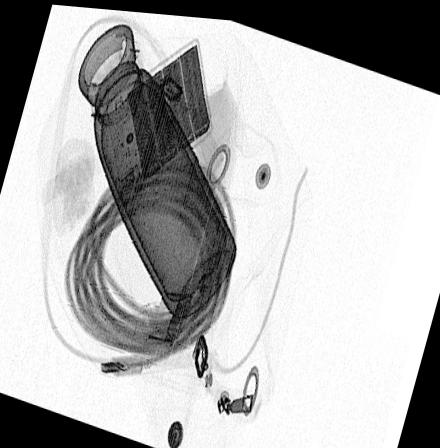Powerbank: (124, 33, 214, 182)
